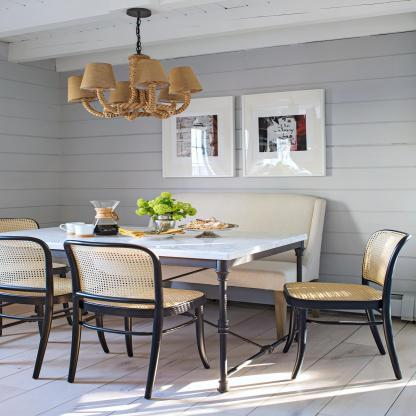chair: (68, 237, 210, 400), (277, 217, 410, 387), (0, 234, 68, 382)
light: (58, 7, 212, 128)
sofa: (137, 195, 337, 307)
table: (2, 221, 312, 393)
